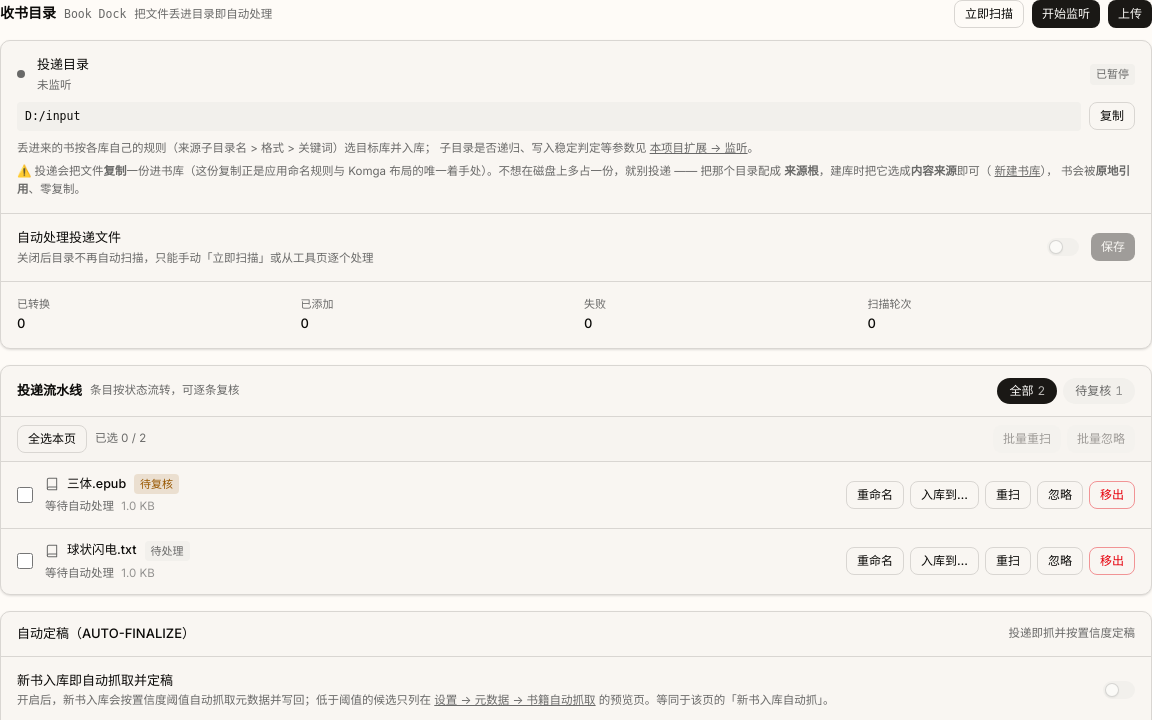
BookDockPage 第 65 期 5/5：重命名 + 入库到… › 「入库到…」默认选第一个**收得了这个格式**的库与它的第一个文件夹
The width and height of the screenshot is (1152, 720).
Step 1. Click the button "入库到…" in the row of "三体.epub" → click(944, 495), box top-left (910, 481), bottom-right (979, 509)
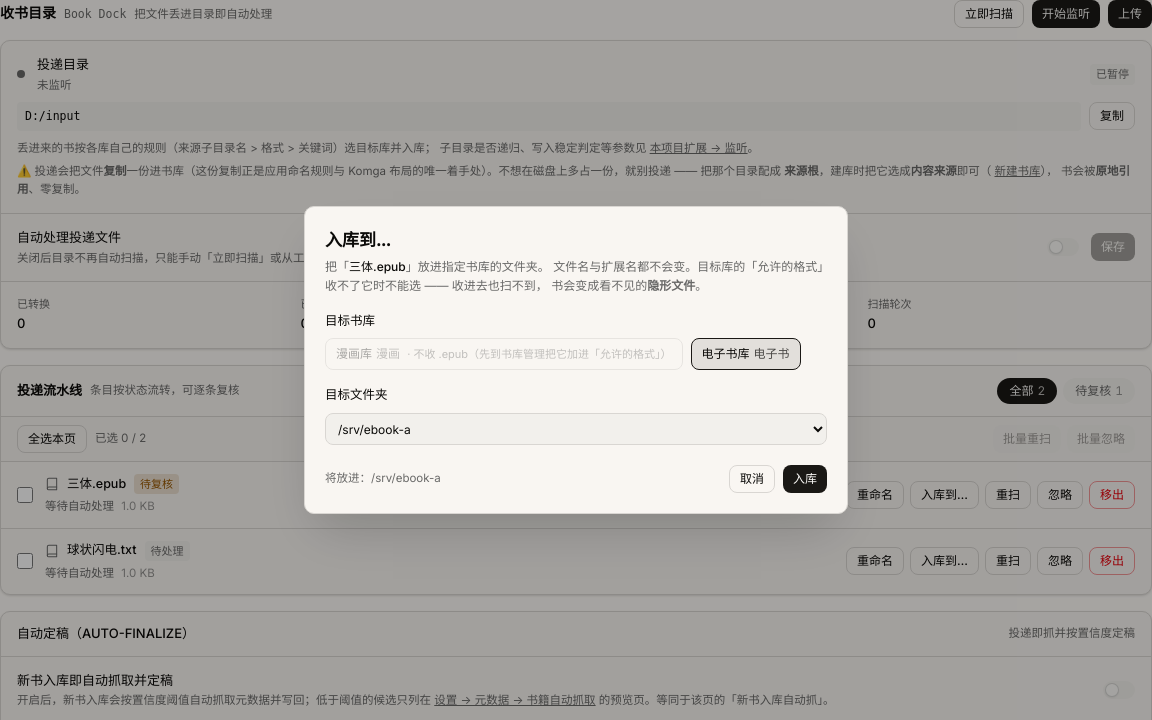
Check: the button that starts with "漫画库" shows "不收 .epub", box top-left (325, 338), bottom-right (682, 370)
Check: the button that starts with "漫画库" is disabled, box top-left (325, 338), bottom-right (682, 370)
Check: the dropdown named "目标文件夹" shows "/srv/ebook-a", box top-left (325, 413), bottom-right (827, 445)
